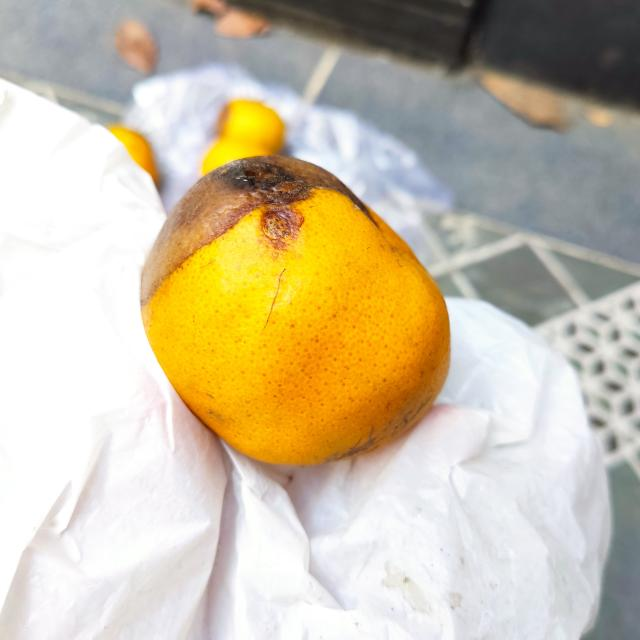orange: (140, 155, 452, 469)
